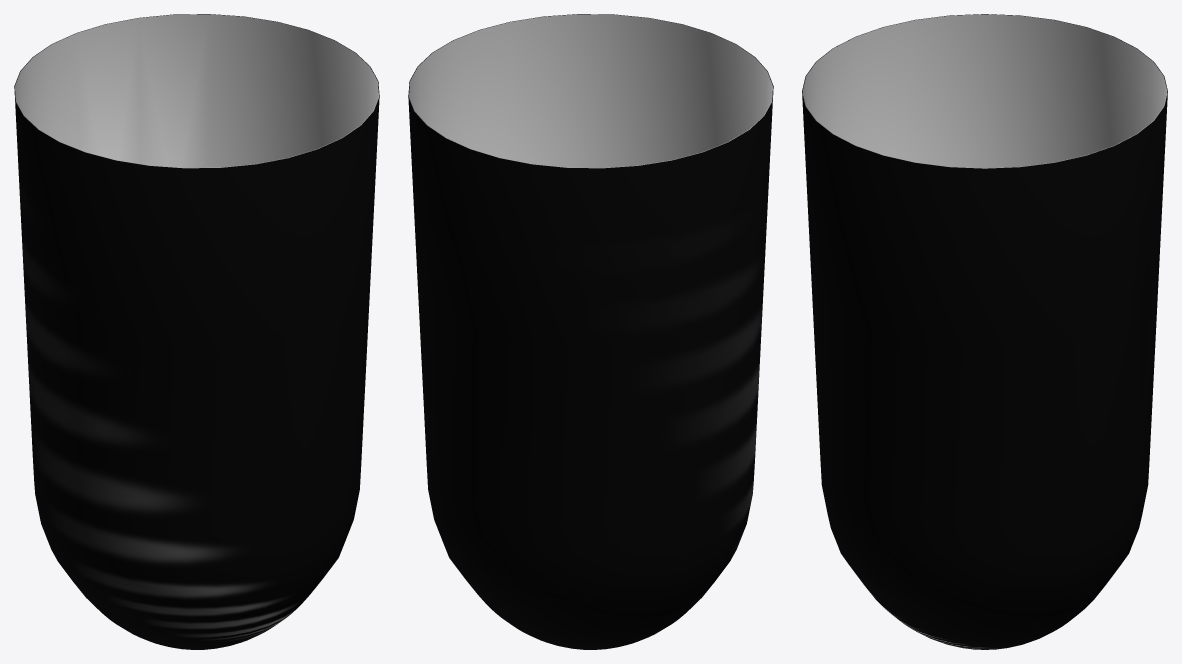
File: p_mesh_plasmadrill_laserbeam_diameter.fbx
3 views of the same model, side by side, from view 1: azimuth 30°, elevation 25°; view 2: azimuth 150°, elevation 25°; view 3: azimuth 270°, elevation 25° (orthographic).
Visible parts, largest first — view 1: plasmadrill_diameter; view 2: plasmadrill_diameter; view 3: plasmadrill_diameter.
Boxes of the visible parts, left/top/right/bottom form: plasmadrill_diameter: left=14, top=14, right=379, bottom=649; plasmadrill_diameter: left=408, top=14, right=773, bottom=649; plasmadrill_diameter: left=802, top=14, right=1167, bottom=649.
Size of the model in its own units: 13.79 by 22.36 by 13.79.
